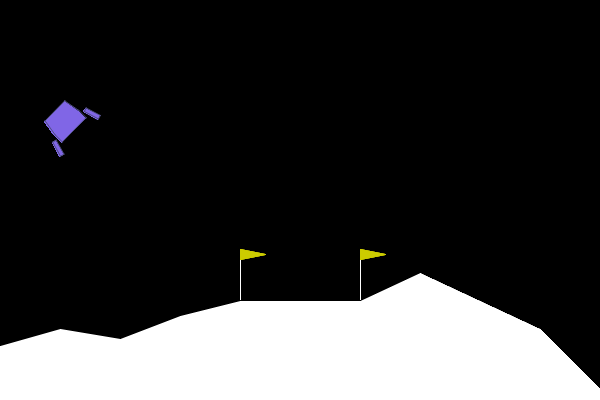lander: (32, 88, 102, 159)
